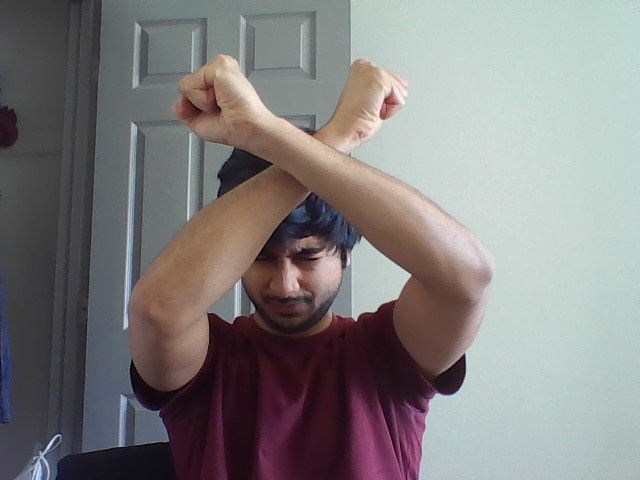cancel: (172, 51, 465, 217)
